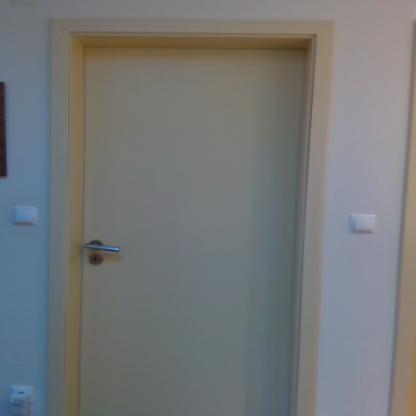door: (81, 43, 293, 416)
lever: (84, 244, 122, 254)
